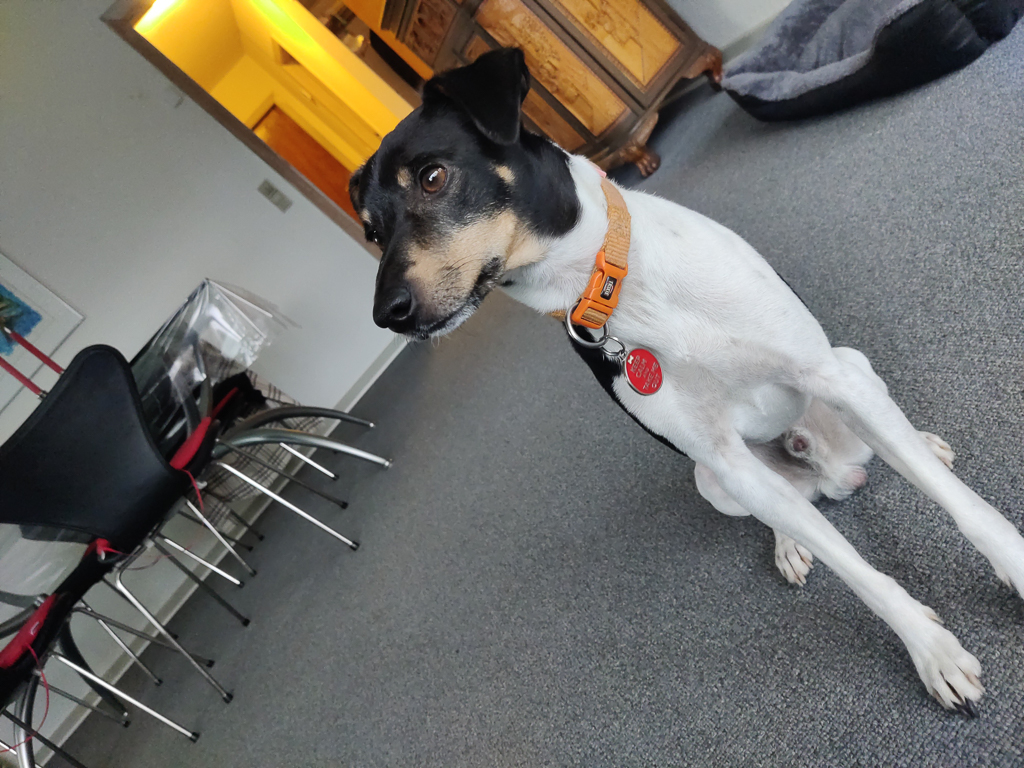Dog: (334, 28, 1024, 734)
